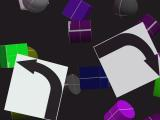Left: (4, 53, 68, 120)
Right: (93, 22, 160, 98)
